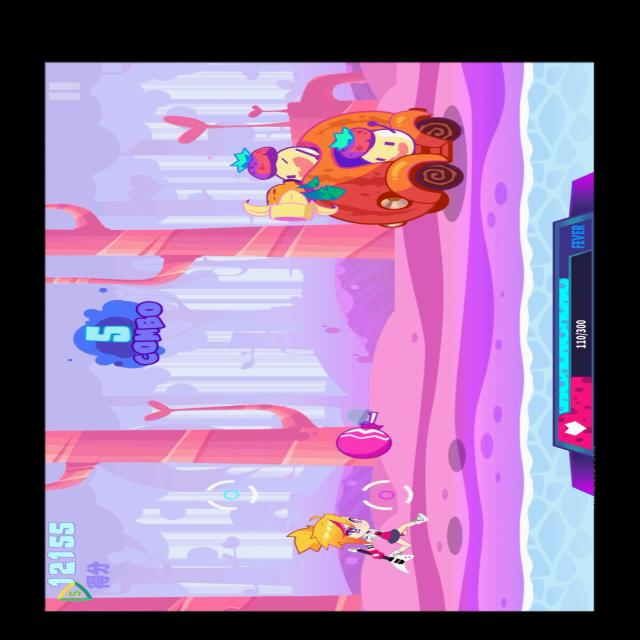cheboss: (226, 99, 482, 234)
tang: (316, 401, 406, 465)
